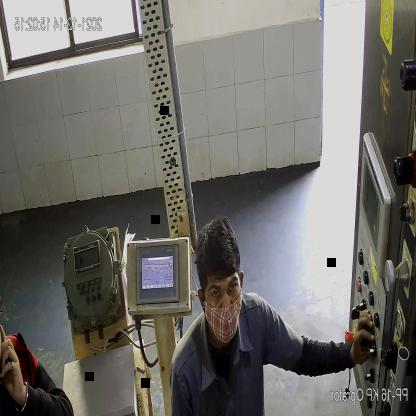no_goggles: (206, 272, 240, 305)
